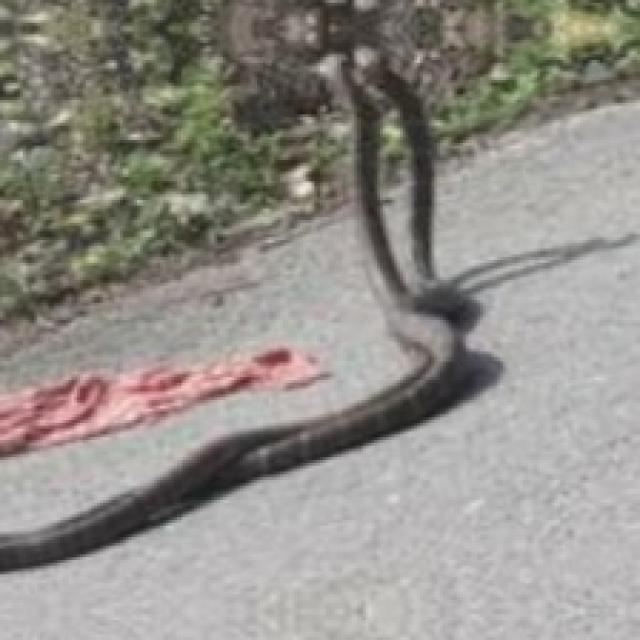king cobra: (3, 237, 637, 637), (0, 0, 403, 529), (383, 0, 637, 274)
